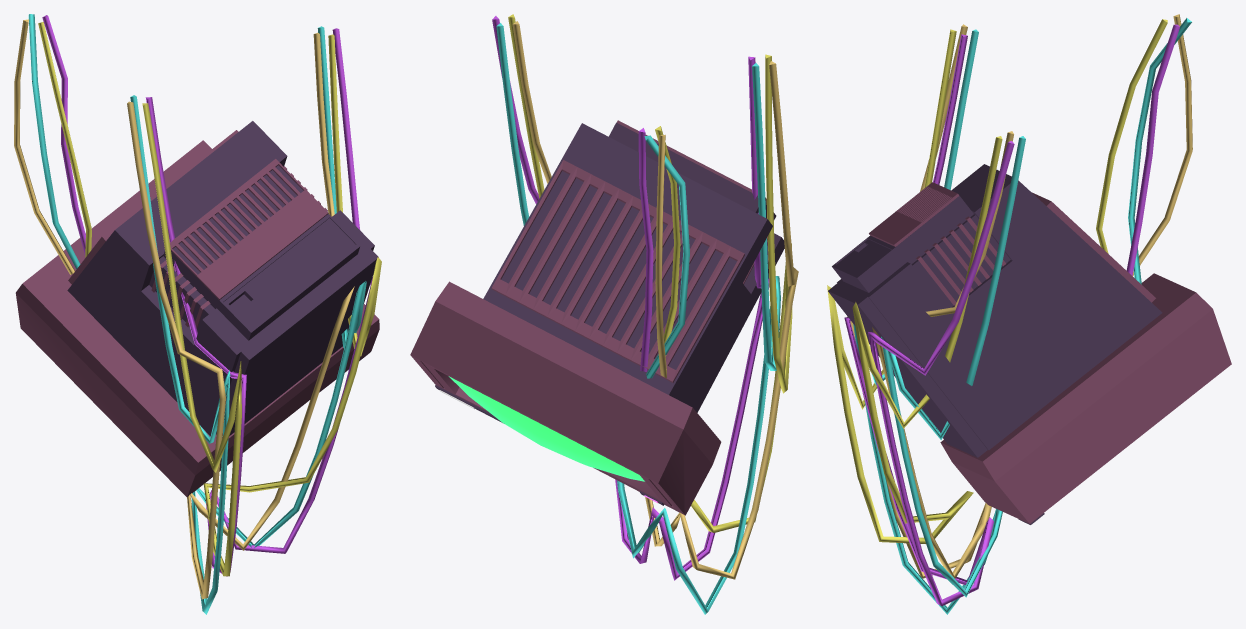
The model's file is Light1.fbx.
The picture shows the model from 3 angles, left to right: view 1: azimuth 30°, elevation 25°; view 2: azimuth 150°, elevation 25°; view 3: azimuth 270°, elevation 25°; orthographic projection. The views are drawn at different scales.
Visible parts, largest first — view 1: Compucter 1.001; view 2: Compucter 1.001; view 3: Compucter 1.001.
Part boxes in pixels (<box>): Compucter 1.001: <box>14,14,381,614</box>; Compucter 1.001: <box>410,14,798,614</box>; Compucter 1.001: <box>827,14,1231,614</box>.
Size of the model in its own units: 61.77 by 108 by 70.48.
